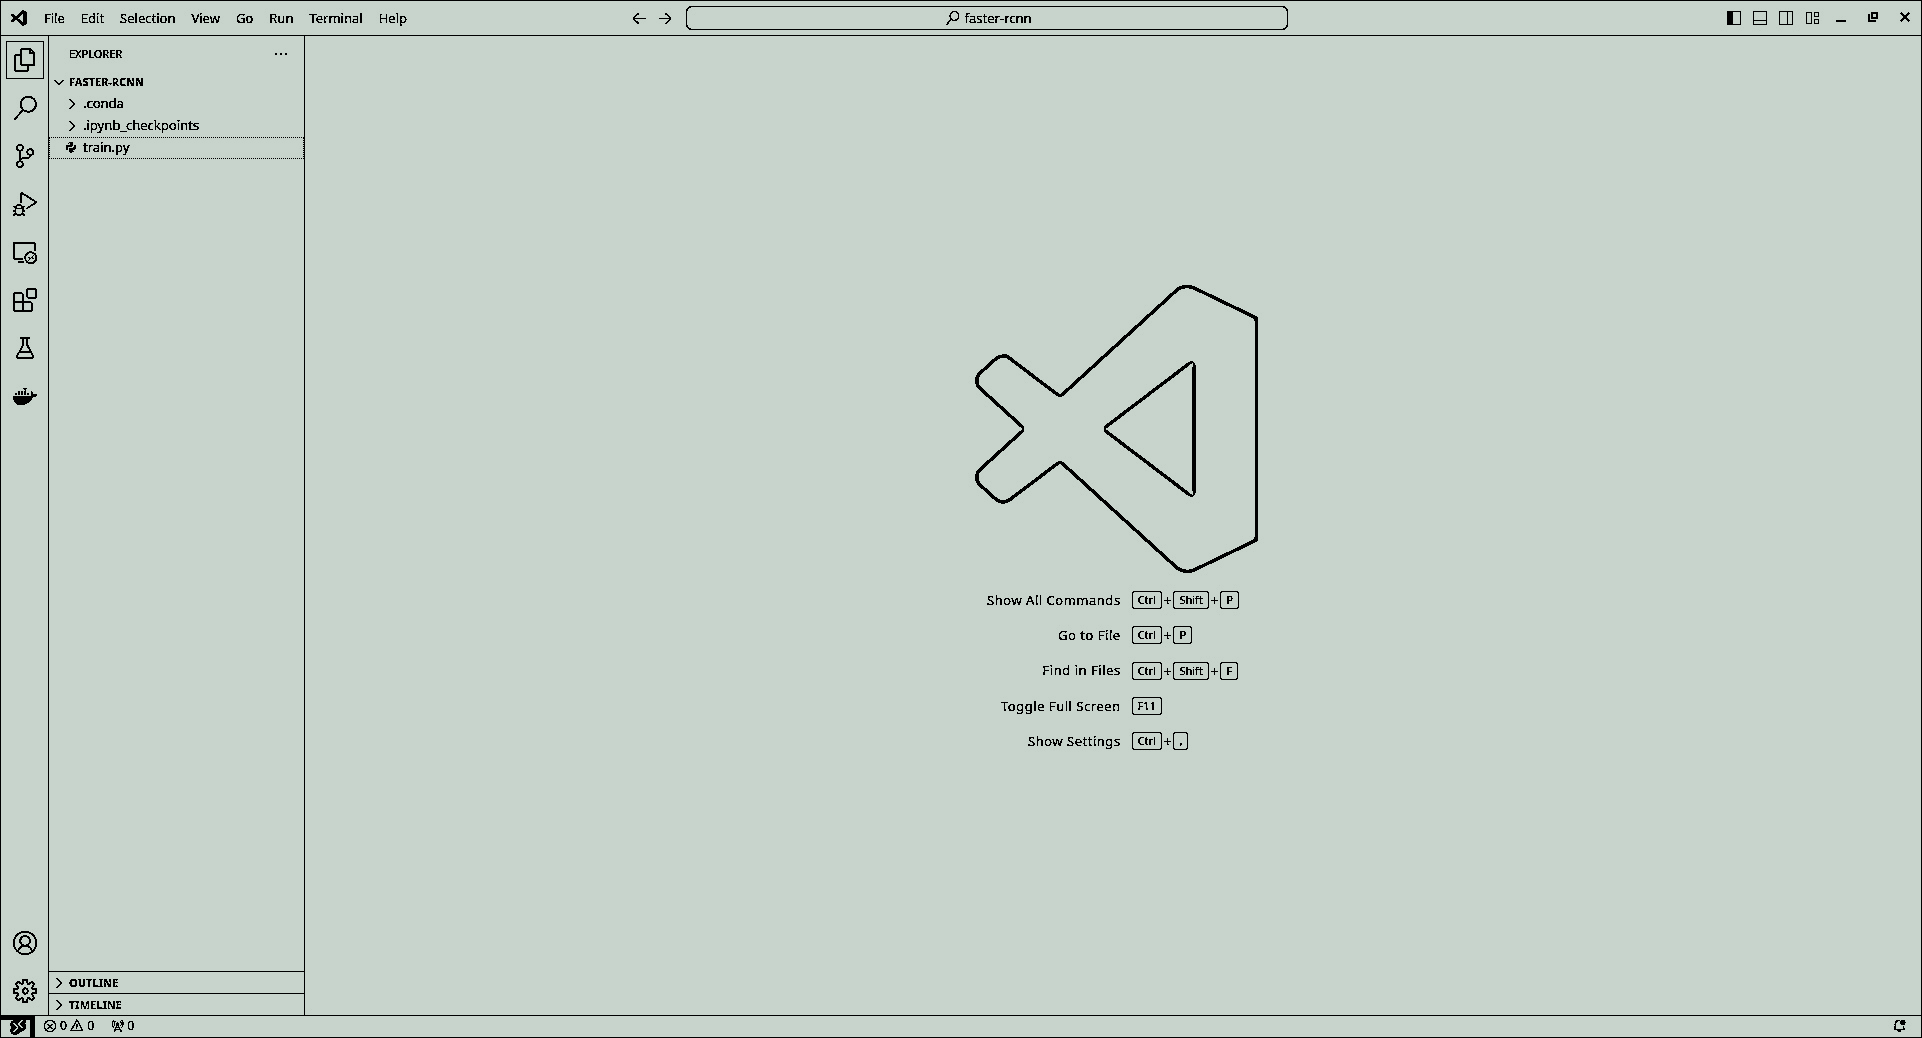Accounts: (6, 926, 40, 957)
Activity Bar: (3, 36, 49, 1009)
Close: (1893, 6, 1913, 26)
Editor: (302, 35, 1919, 1010)
Explorer: (8, 43, 38, 72)
Extensions: (6, 280, 40, 314)
Manage: (5, 972, 41, 1006)
Maximize: (1858, 6, 1885, 27)
Minimize: (1827, 6, 1853, 28)
Primary Side Bar: (45, 32, 305, 1009)
Run and Debug: (6, 187, 40, 219)
Search: (8, 89, 38, 120)
Search Bar: (677, 3, 1295, 31)
Source Control: (10, 141, 35, 167)
Status Bar: (0, 1012, 1919, 1033)
Testing: (8, 329, 40, 364)
Top Bar: (1, 1, 1919, 31)
